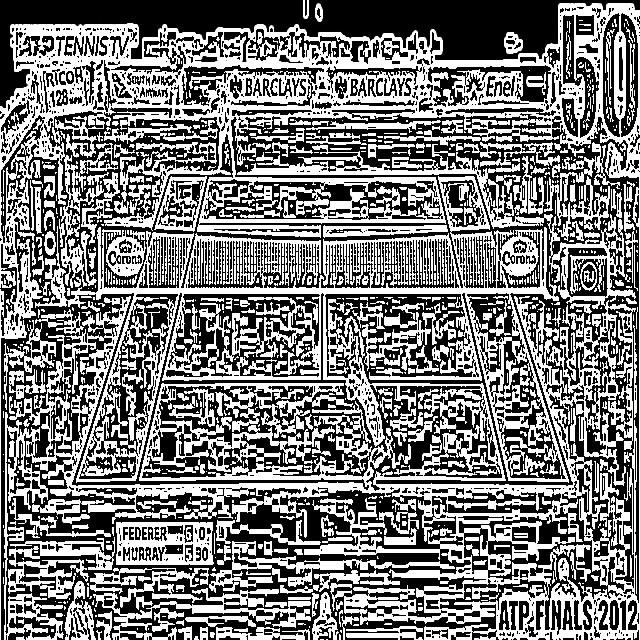left side: (436, 175, 571, 483), (73, 175, 208, 482)
player: (336, 309, 394, 494), (212, 86, 240, 178)
